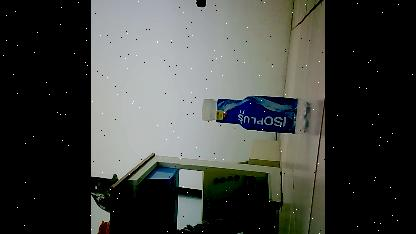Plastic Bottle: (197, 82, 314, 140)
